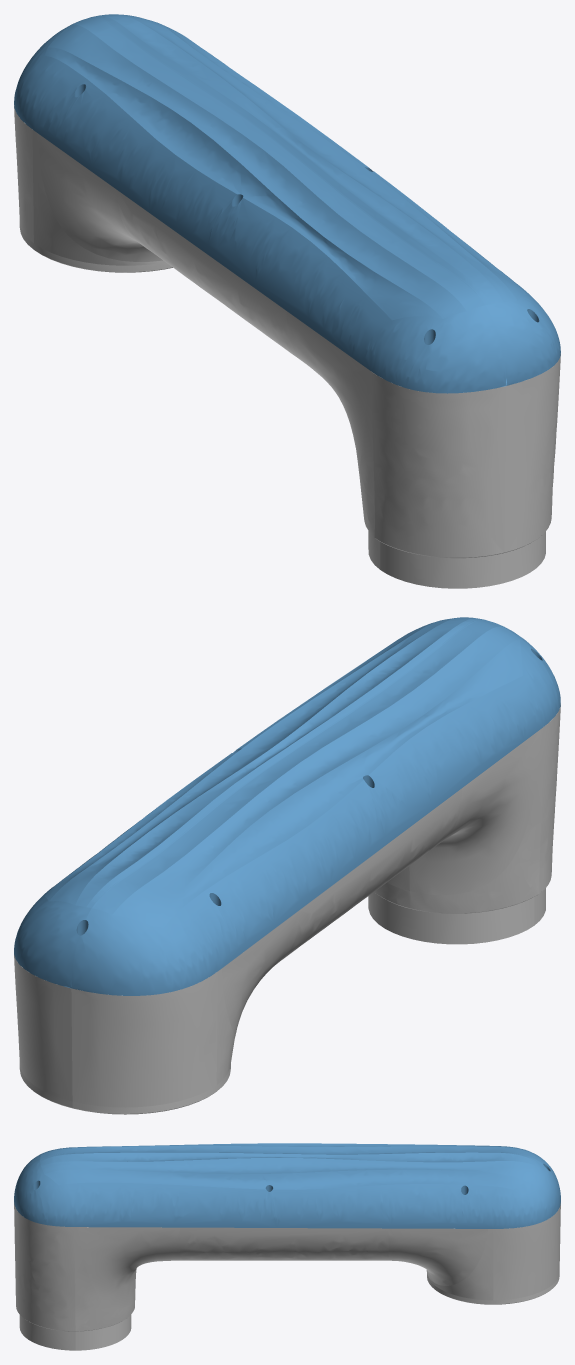
Rendered from NOVA2_J2.gltf.
3 renders of one model, top to bottom at view 1: azimuth 30°, elevation 25°; view 2: azimuth 150°, elevation 25°; view 3: azimuth 270°, elevation 25°, orthographic. The views are drawn at different scales.
Visible parts, largest first — view 1: J2-PART2.001, J2-PART1.001; view 2: J2-PART2.001, J2-PART1.001; view 3: J2-PART2.001, J2-PART1.001.
Part boxes in pixels (x1,y1,x2,y2): J2-PART2.001: (14,14,560,393); J2-PART1.001: (14,105,560,588); J2-PART2.001: (14,617,560,995); J2-PART1.001: (14,703,560,1114); J2-PART2.001: (14,1143,560,1228); J2-PART1.001: (14,1202,560,1350).
Bounding box in the file's own units: 0.09 × 0.1295 × 0.3667.
